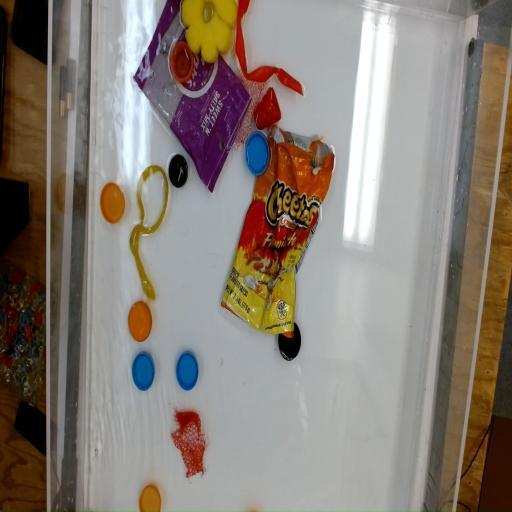Bottle Cap: (127, 300, 153, 346), (245, 131, 271, 176), (100, 183, 126, 224), (170, 41, 194, 84), (174, 348, 198, 390), (278, 322, 303, 360), (132, 353, 154, 392), (168, 151, 188, 188), (139, 484, 161, 512)
Cone Cap: (252, 88, 282, 135)
Netting: (228, 73, 278, 154), (170, 405, 208, 480)
Plastic Bag: (221, 122, 336, 342), (132, 0, 252, 195)
Plastic Strand: (234, 0, 306, 99), (128, 161, 170, 292)
Sponge: (177, 0, 240, 66)
